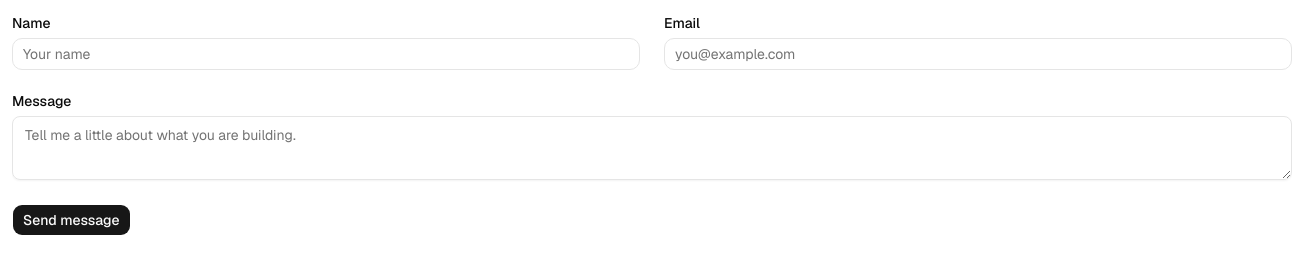
Test: ContactForm › submits JSON once and announces success
Step 1. Type "New Visitor" into the field labelled "Name" → (326,54), box 12,38 -> 640,70
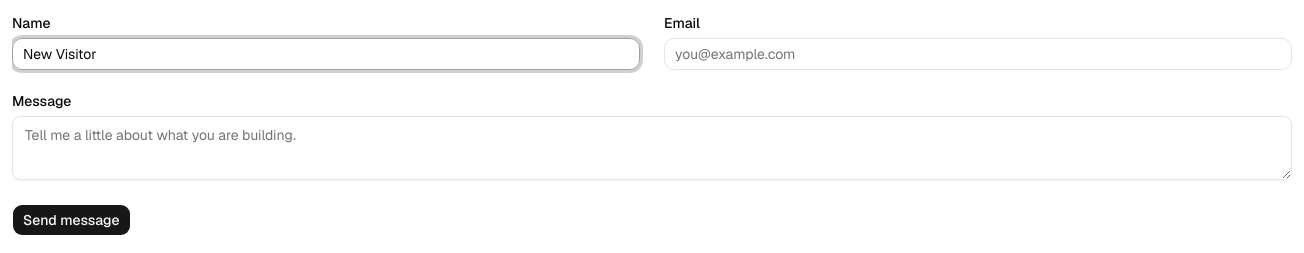
Step 2. Type "visitor@example.com" into the field labelled "Email" → (978,54), box 664,38 -> 1292,70
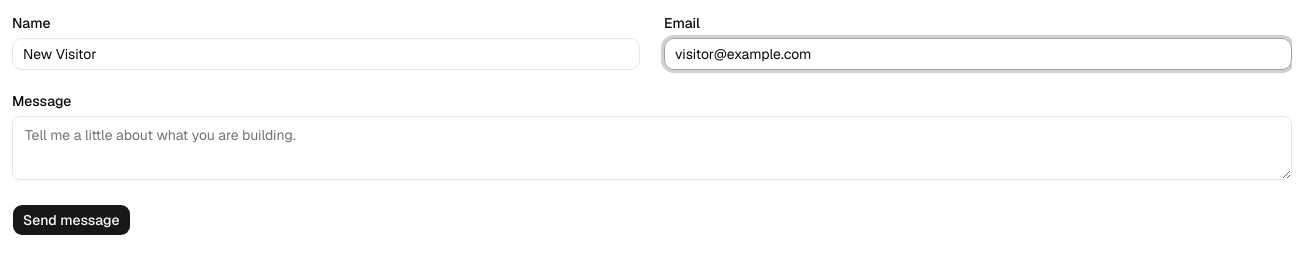
Step 3. Type "A useful project inquiry." into the text box labelled "Message" → (652,148), box 12,116 -> 1292,180
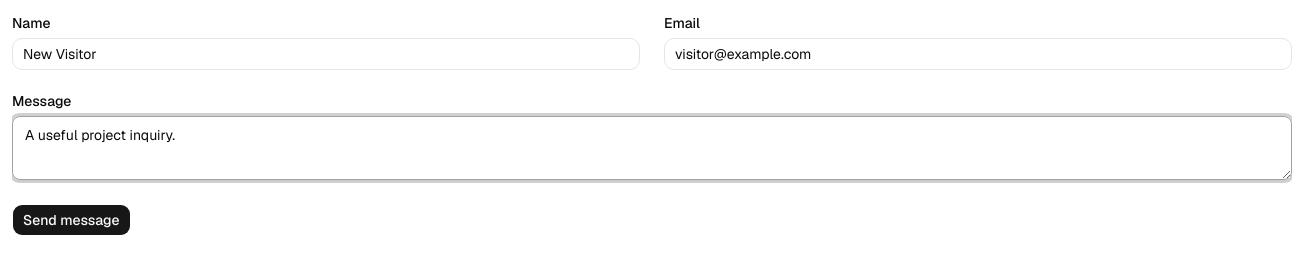
Step 4. Submit the form "Send message"
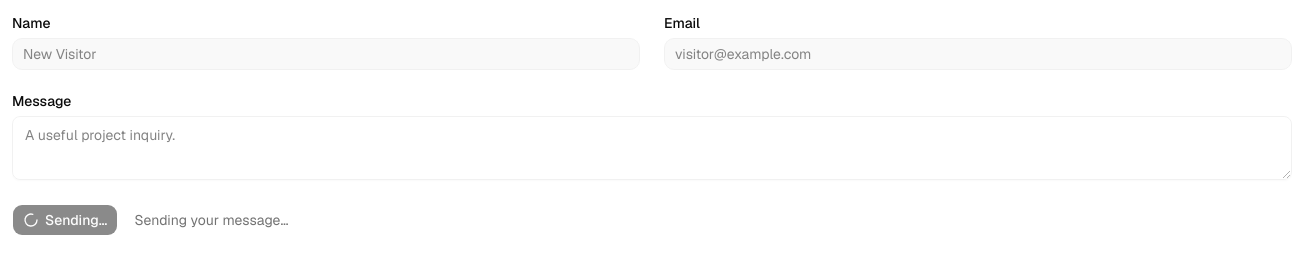
Step 5. Submit the form named "Send message"
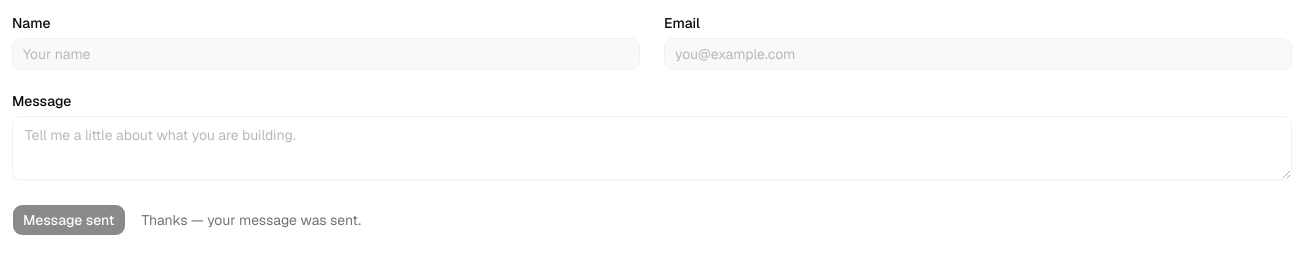
Expected: the button named "Sending" is disabled, 12,204 -> 126,236
Expected: the button "Message sent" is disabled, 12,204 -> 126,236
Expected: the message reads "Thanks — your message was sent.", 142,211 -> 361,229
